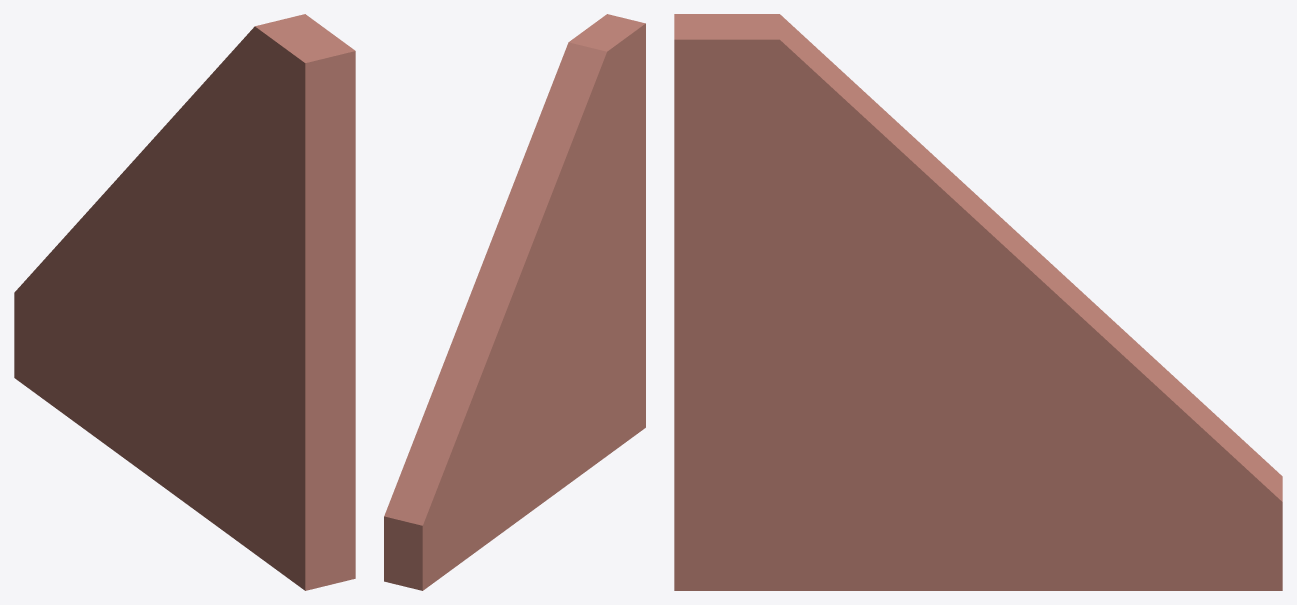
File: BasicSupport04Top.fbx
3 views of the same model, side by side, from view 1: azimuth 30°, elevation 25°; view 2: azimuth 150°, elevation 25°; view 3: azimuth 270°, elevation 25° (orthographic). The views are drawn at different scales.
Parts seen in each view (by area): view 1: BasicSupport04Top.011; view 2: BasicSupport04Top.011; view 3: BasicSupport04Top.011.
Part boxes in pixels (x1,y1,x2,y2): BasicSupport04Top.011: [14, 14, 355, 590]; BasicSupport04Top.011: [384, 14, 645, 590]; BasicSupport04Top.011: [674, 14, 1282, 590].
Bounding box in the file's own units: 50.01 × 500 × 500.
